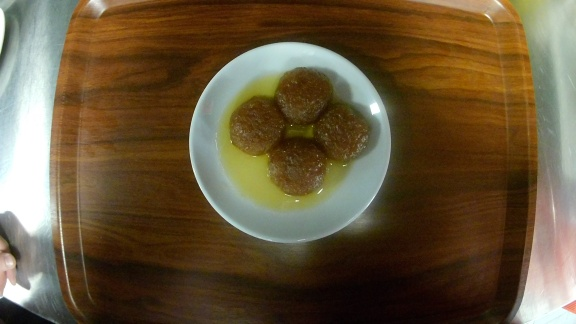kemalpasa: (190, 42, 391, 243)
